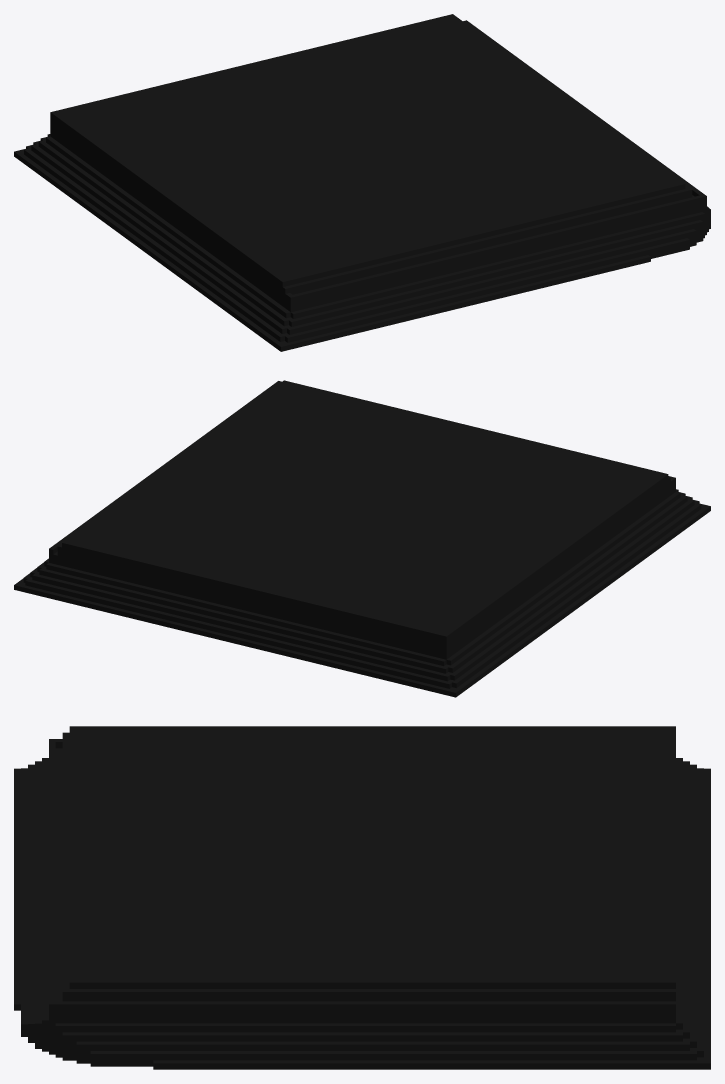
The model's file is Police Good-3-Roof.obj.
The picture shows the model from 3 angles, top to bottom: view 1: azimuth 30°, elevation 25°; view 2: azimuth 150°, elevation 25°; view 3: azimuth 270°, elevation 25°; orthographic projection. The views are drawn at different scales.
Visible parts, largest first — view 1: Roof; view 2: Roof; view 3: Roof.
Part boxes in pixels (left/top/right/bottom): Roof: left=14, top=14, right=710, bottom=351; Roof: left=14, top=380, right=710, bottom=697; Roof: left=14, top=726, right=710, bottom=1069.
Bounding box in the file's own units: 10 × 1 × 10.
